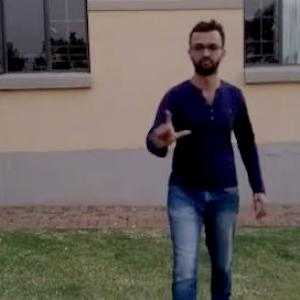land_hand: (148, 108, 194, 147)
